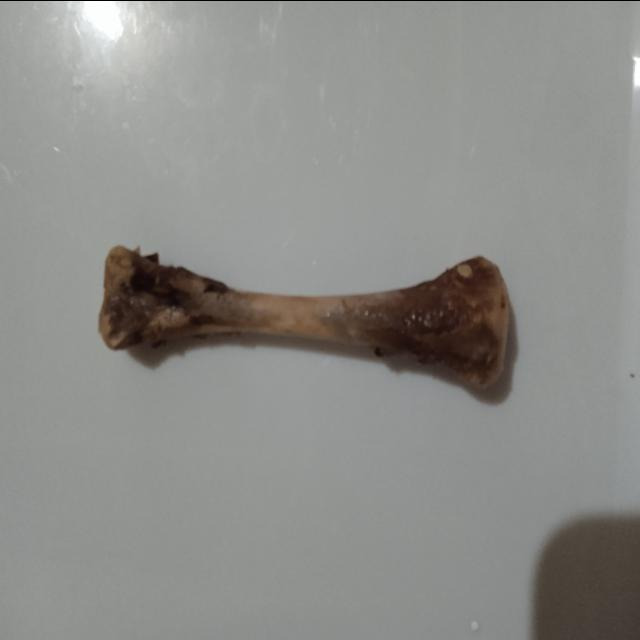bone: (93, 242, 519, 406)
